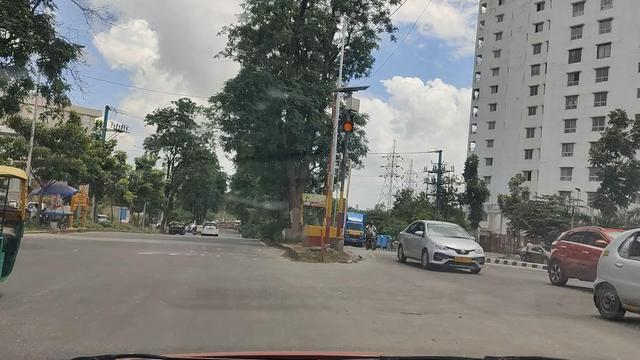LMV: (401, 215, 483, 273)
